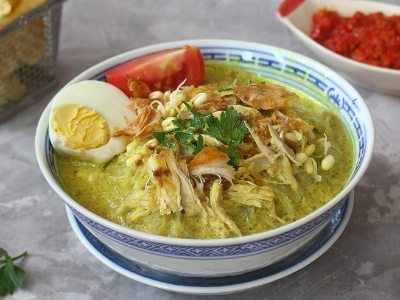soto: (54, 67, 357, 223)
